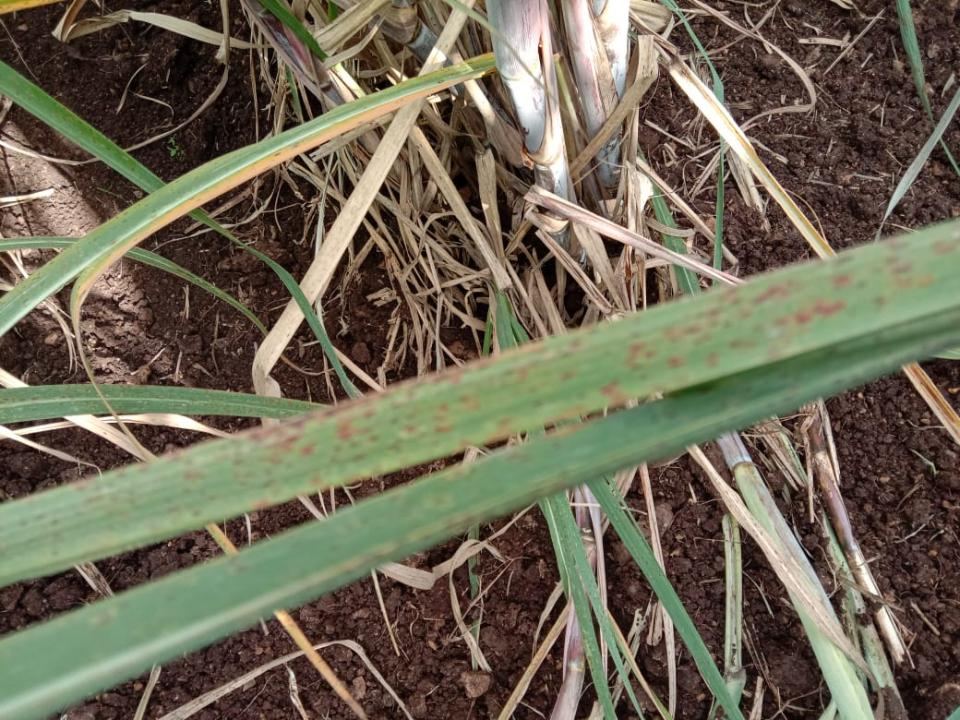Rust: (0, 229, 959, 564)
